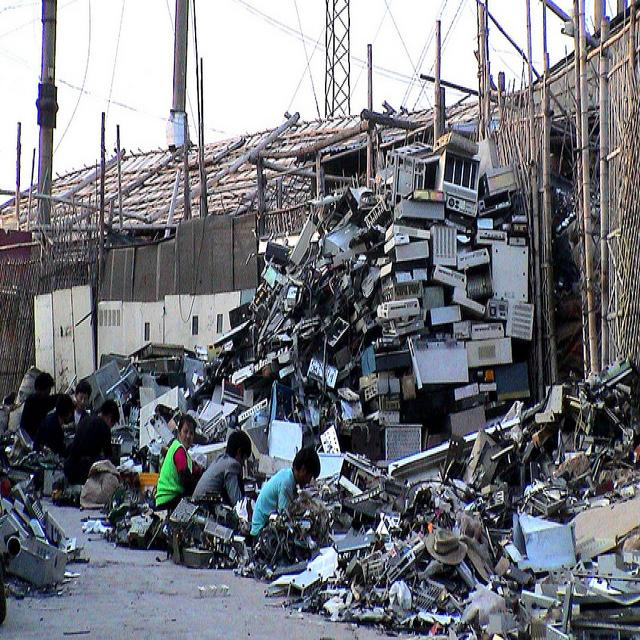Hazard: (93, 150, 640, 634), (3, 481, 64, 578)
